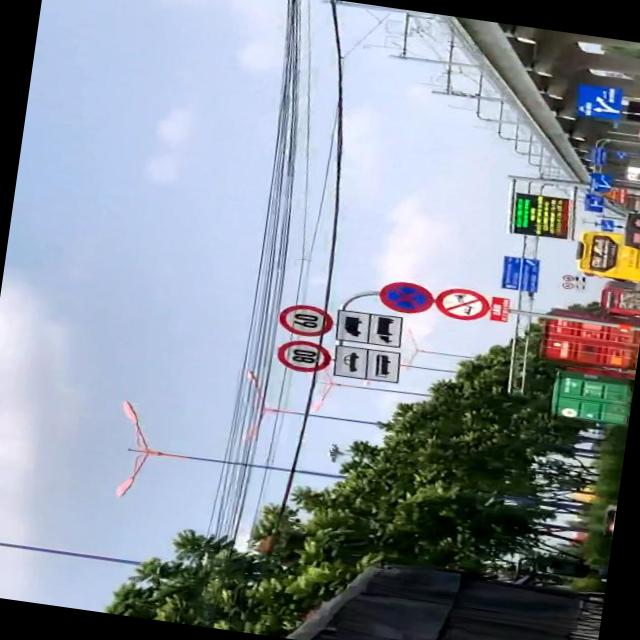P-104: (433, 284, 492, 324)
P-127: (272, 335, 334, 376), (276, 300, 337, 340)
P-130: (376, 278, 436, 316)
